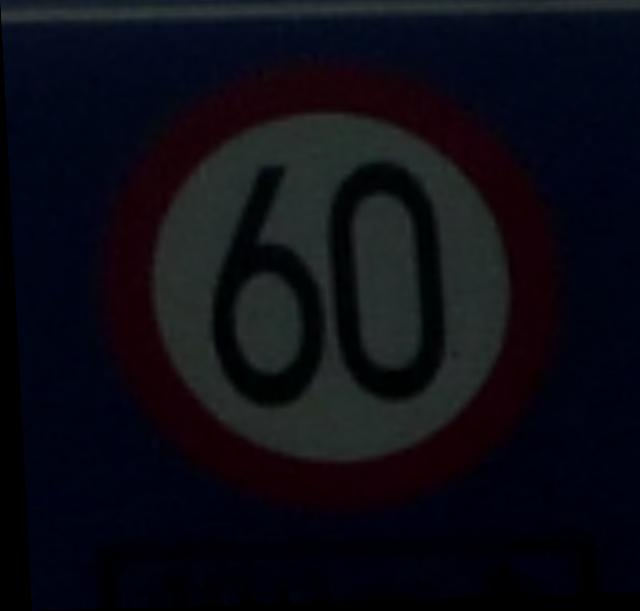limit60: (88, 52, 580, 516)
